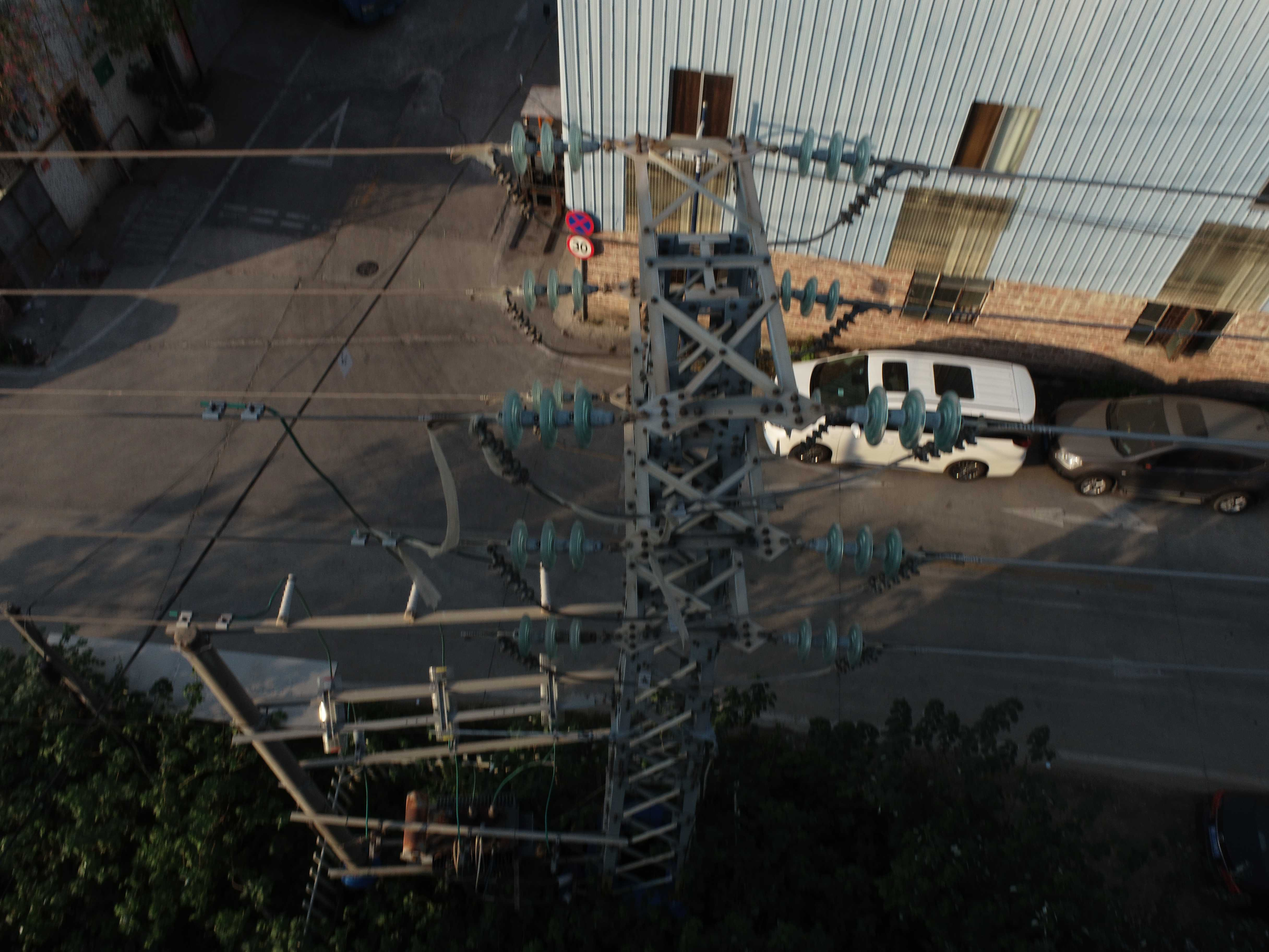异物: (368, 412, 690, 651)
